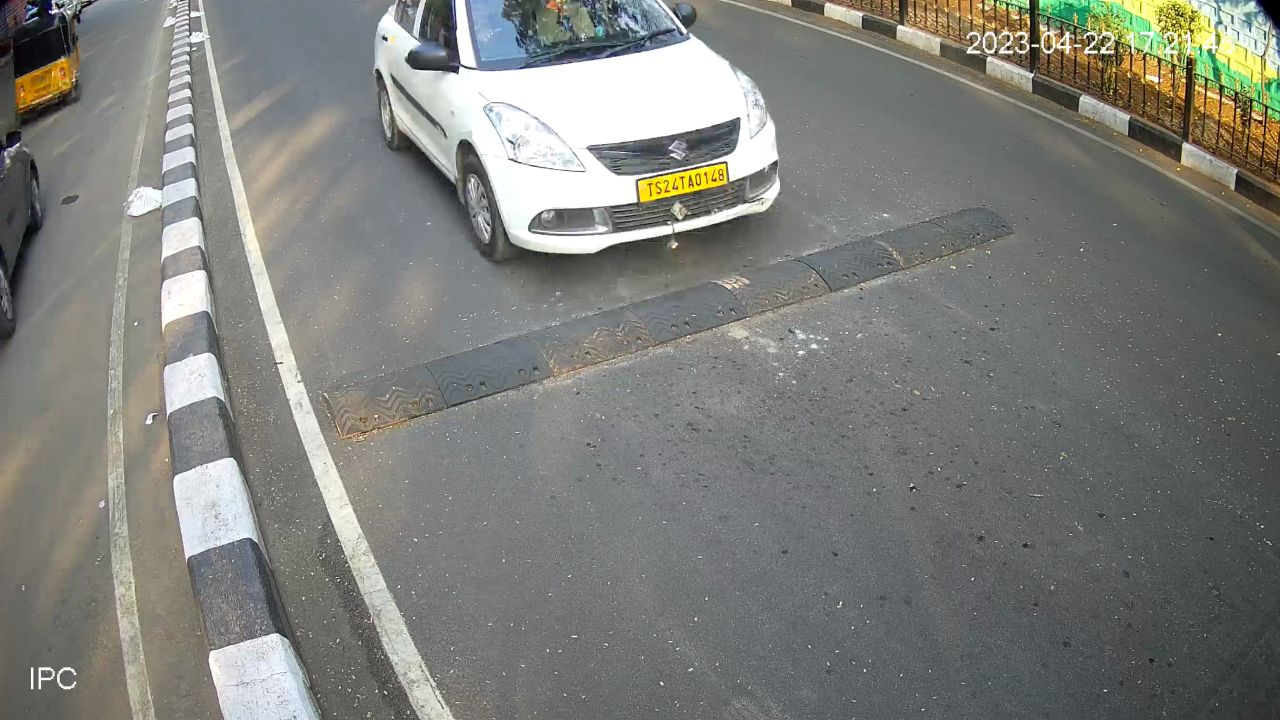license_plate: (630, 157, 736, 209)
